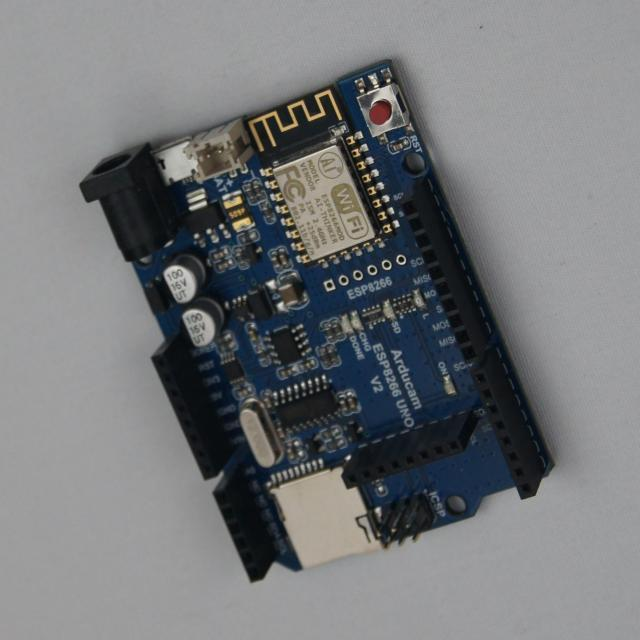Arduino Uno Camera Shield: (81, 62, 552, 581)
